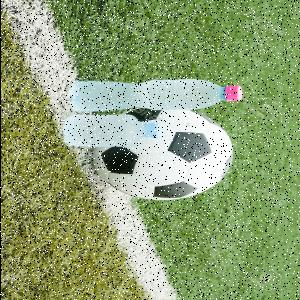Plastic-bottle: (73, 79, 245, 112), (62, 115, 162, 148)
